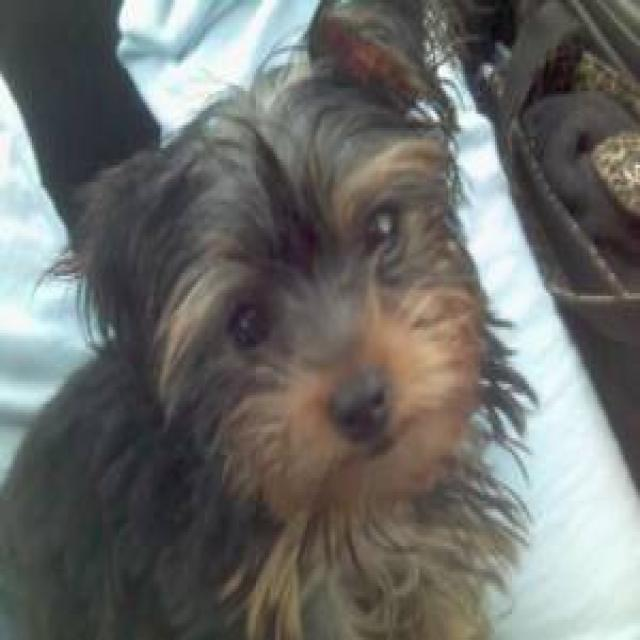dog-yorkshire_terrier: (2, 3, 529, 634)
